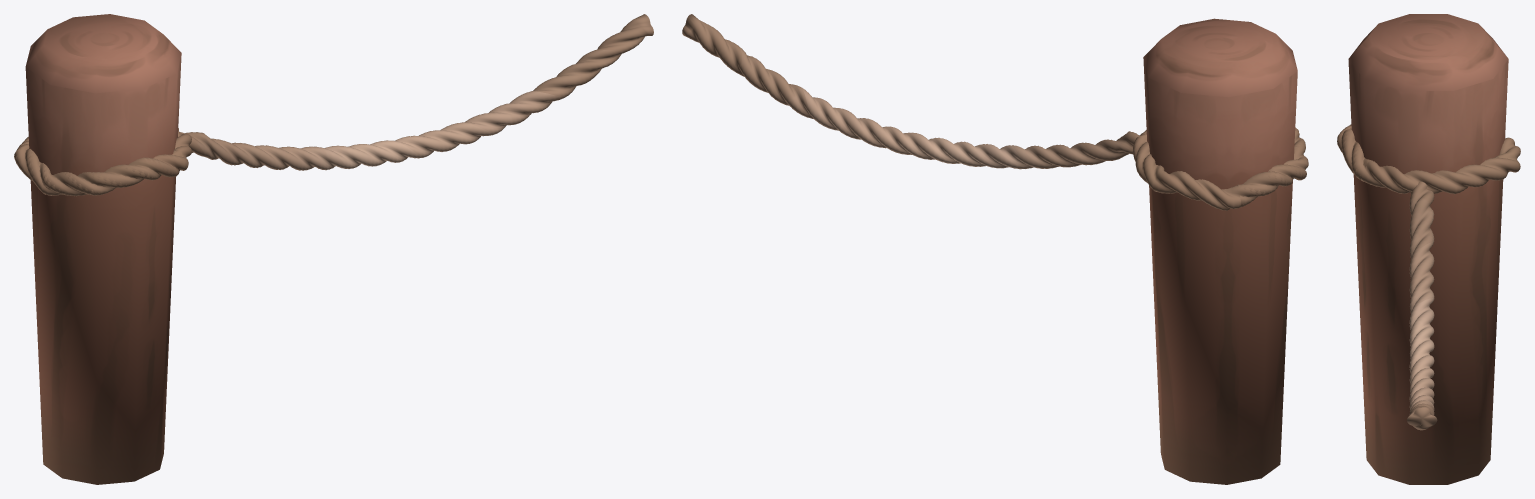
File: fence2.fbx
The picture shows the model from 3 angles, left to right: view 1: azimuth 30°, elevation 25°; view 2: azimuth 150°, elevation 25°; view 3: azimuth 270°, elevation 25°; orthographic projection.
Visible parts, largest first — view 1: Circle.001; view 2: Circle.001; view 3: Circle.001.
Part boxes in pixels (bbox=[...]): Circle.001: bbox=[14, 14, 653, 484]; Circle.001: bbox=[682, 14, 1308, 484]; Circle.001: bbox=[1337, 14, 1520, 484].
Size of the model in its own units: 143 by 93.25 by 36.87.
